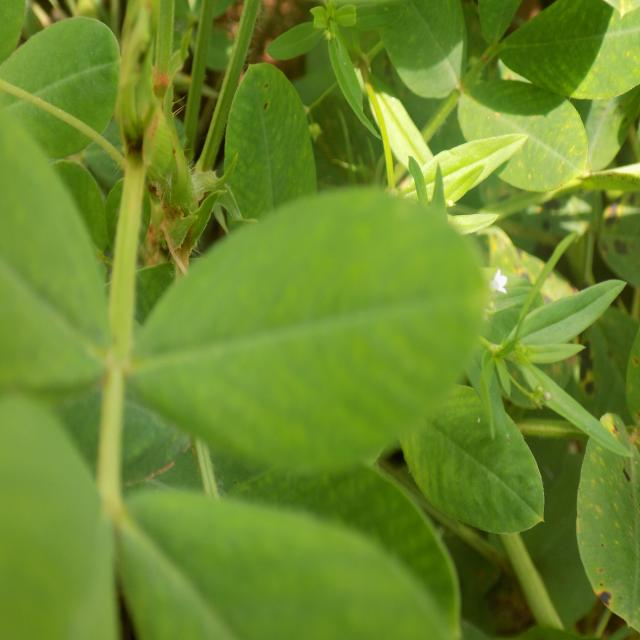Ground nut_healthy: (125, 194, 486, 470), (393, 380, 549, 525)
